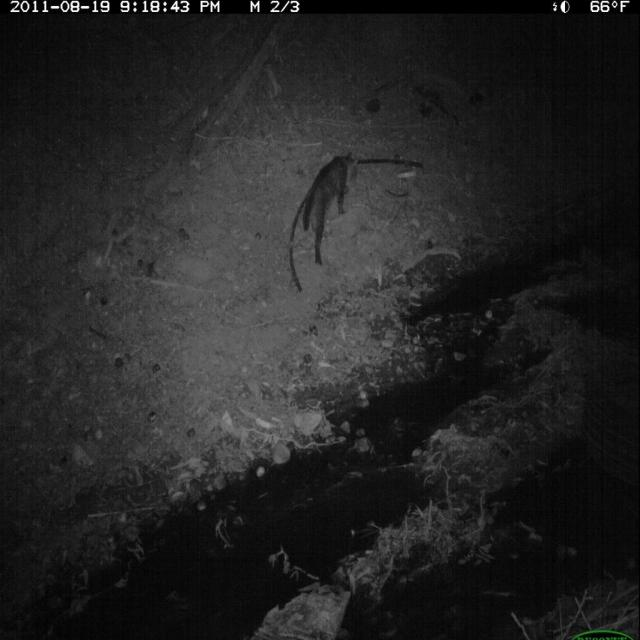cat: (300, 148, 361, 270)
